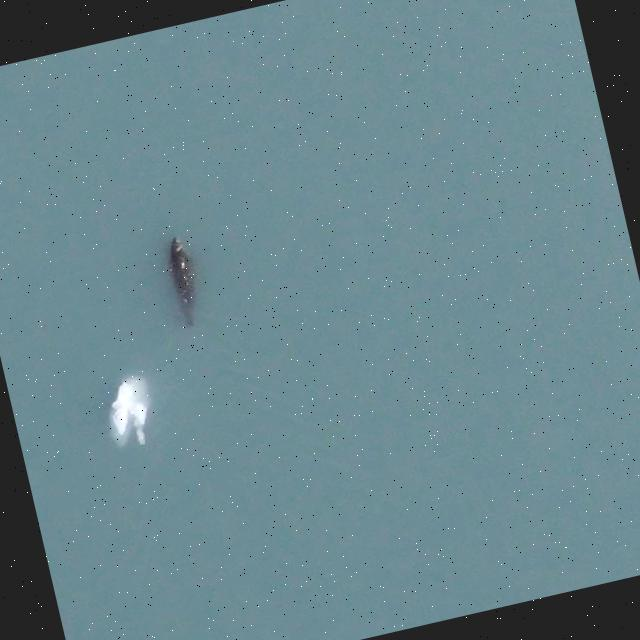seal: (166, 235, 197, 328)
